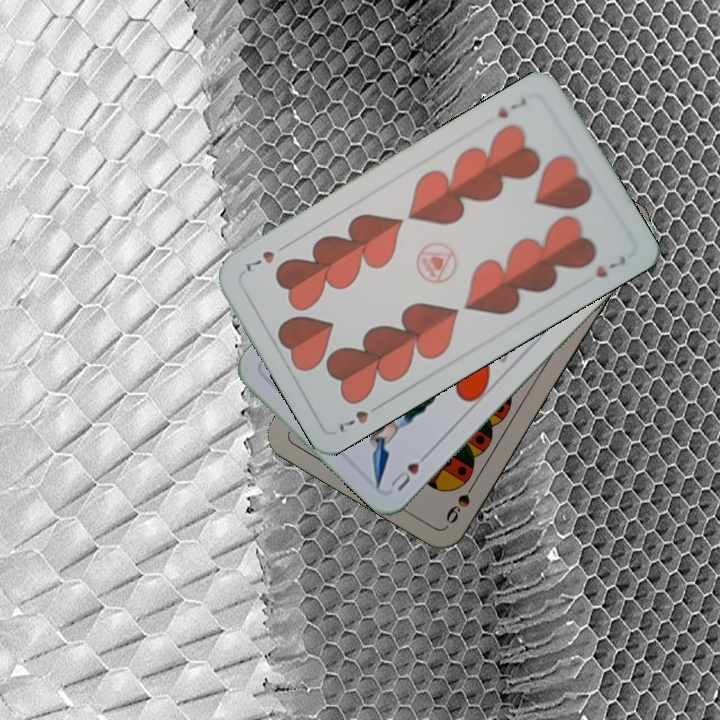H7: (332, 398, 386, 436), (493, 93, 530, 121)
HU: (386, 446, 434, 494)
S9: (441, 474, 481, 526)
